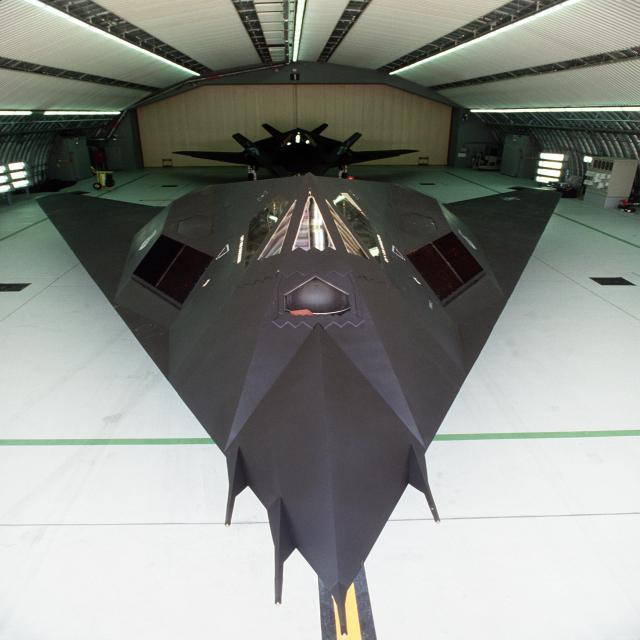MIL_Plane: (33, 132, 562, 638), (170, 123, 420, 181)
